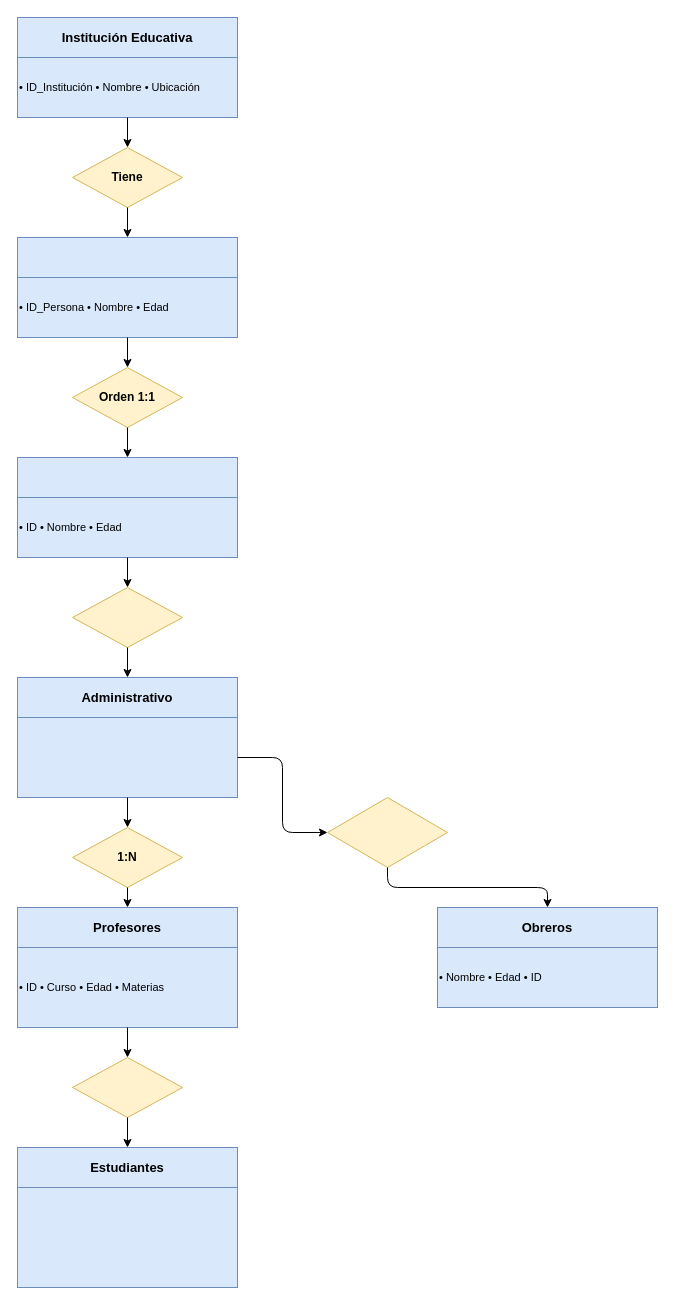
The diagram is 675 pixels wide and 1305 high, and some of its shapes have lost their labels. The centre of each missing label's shape, as x and y in pixels:
"Director - Subdirector" goes at (127,477).
"Dirige 1:N" goes at (127,617).
"Educan 1:N" goes at (127,1087).
"Organizan 1:N" goes at (387,832).
"Personas" goes at (127,257).
"• ID • Nombre • Edad • Cargo" goes at (127,757).
"• Nombre • Ciclo • Edad • Profesores • Materias" goes at (127,1237).
